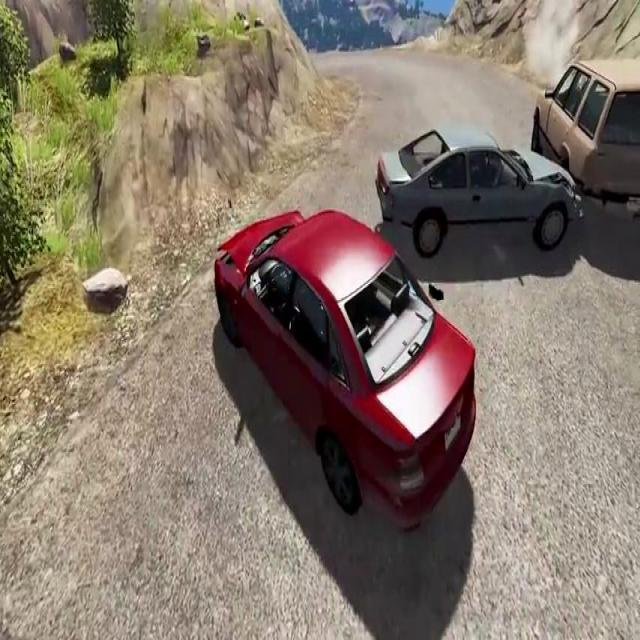vehicle: (374, 36, 640, 258)
